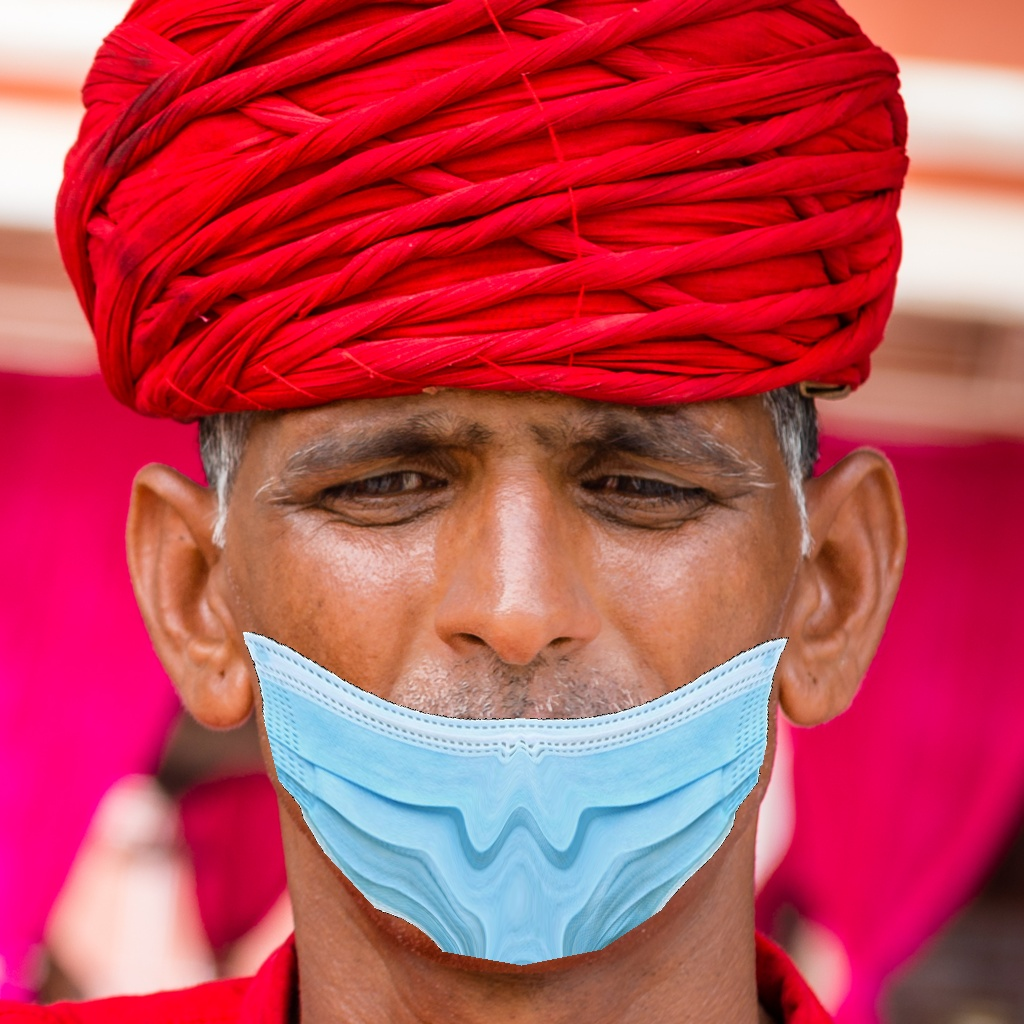mask_weared_incorrect: (254, 396, 796, 968)
